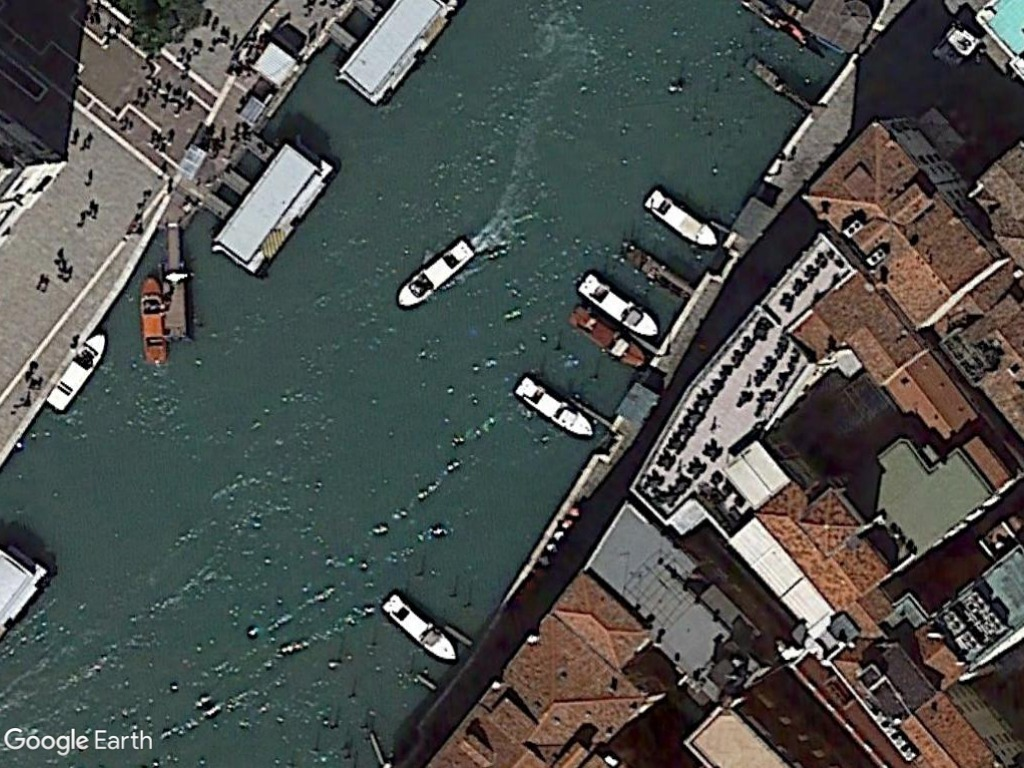boat: (392, 236, 477, 320), (571, 266, 662, 340), (509, 372, 595, 442), (635, 182, 720, 252), (42, 329, 111, 415), (379, 591, 459, 665), (566, 303, 646, 371), (130, 272, 170, 372)
